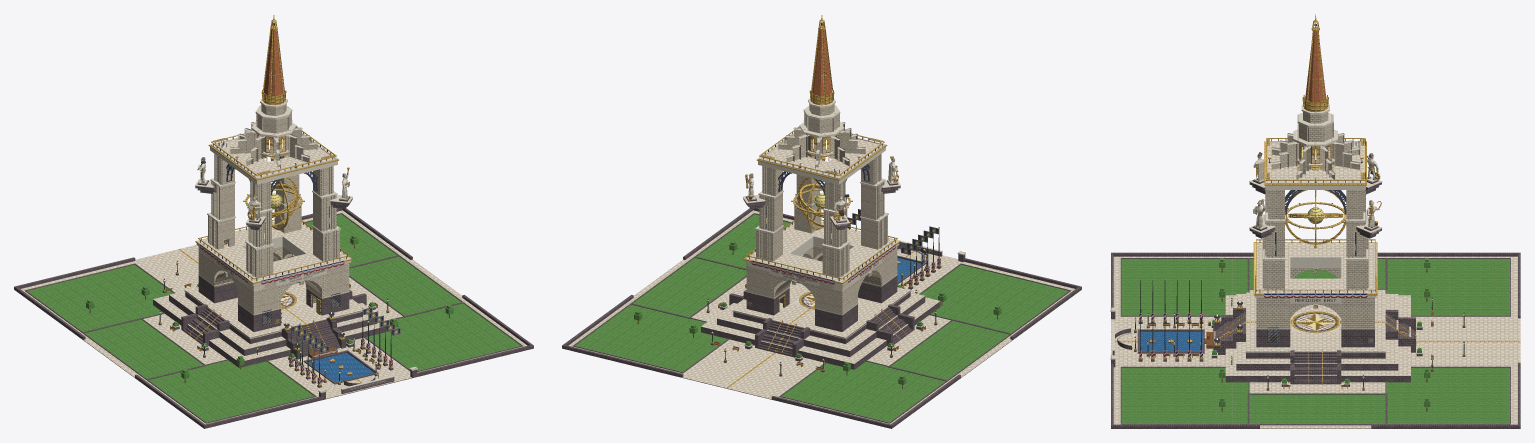
The model's file is great-meridian-1926.glb.
3 views of the same model, side by side, from view 1: azimuth 30°, elevation 25°; view 2: azimuth 150°, elevation 25°; view 3: azimuth 270°, elevation 25° (orthographic). The views are drawn at different scales.
Parts seen in each view (by area): view 1: lot_ground, structure, floor_plaza, floor_rotunda_plaza, floor_cornice_gallery, floor_observation_deck, floor_stairs_pz, armillary_outer; view 2: lot_ground, structure, floor_plaza, floor_rotunda_plaza, floor_cornice_gallery, floor_observation_deck, floor_stairs_mz, armillary_outer; view 3: lot_ground, structure, floor_plaza, floor_rotunda_plaza, floor_cornice_gallery, floor_observation_deck, floor_stairs_px, armillary_outer, floor_stairs_pz.
Boxes of the visible parts, x1,y1,x2,y2 form: lot_ground: [14, 208, 533, 428]; structure: [153, 15, 390, 367]; floor_plaza: [20, 210, 527, 424]; floor_rotunda_plaza: [185, 281, 362, 337]; floor_cornice_gallery: [198, 222, 349, 281]; floor_observation_deck: [214, 135, 334, 177]; floor_stairs_pz: [290, 319, 339, 355]; armillary_outer: [243, 156, 304, 230]; lot_ground: [562, 208, 1081, 428]; structure: [701, 15, 940, 369]; floor_plaza: [568, 210, 1075, 424]; floor_rotunda_plaza: [733, 281, 910, 337]; floor_cornice_gallery: [746, 222, 897, 281]; floor_observation_deck: [761, 135, 881, 177]; floor_stairs_mz: [758, 320, 804, 355]; armillary_outer: [791, 156, 852, 230]; lot_ground: [1110, 252, 1520, 428]; structure: [1213, 14, 1416, 384]; floor_plaza: [1111, 256, 1520, 428]; floor_rotunda_plaza: [1246, 292, 1385, 351]; floor_cornice_gallery: [1256, 242, 1375, 293]; floor_observation_deck: [1267, 142, 1364, 182]; floor_stairs_px: [1294, 352, 1336, 382]; armillary_outer: [1285, 166, 1346, 245]; floor_stairs_pz: [1215, 311, 1245, 344].
Size of what is drawn, in the model's own units: 120 by 107 by 120.
Materials: 12 (12 with a texture image).
